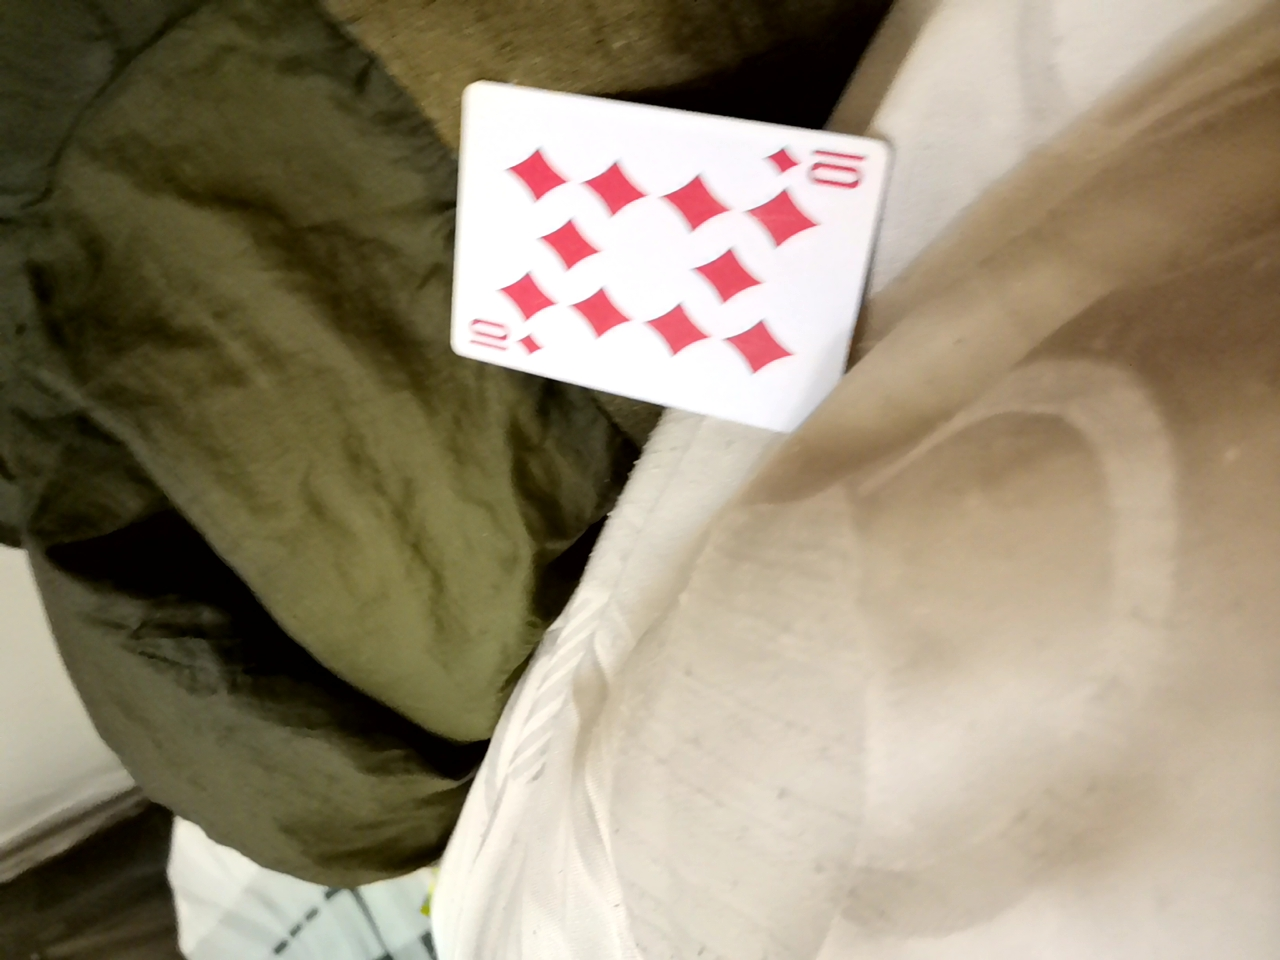fk 10: (530, 179, 972, 499)
